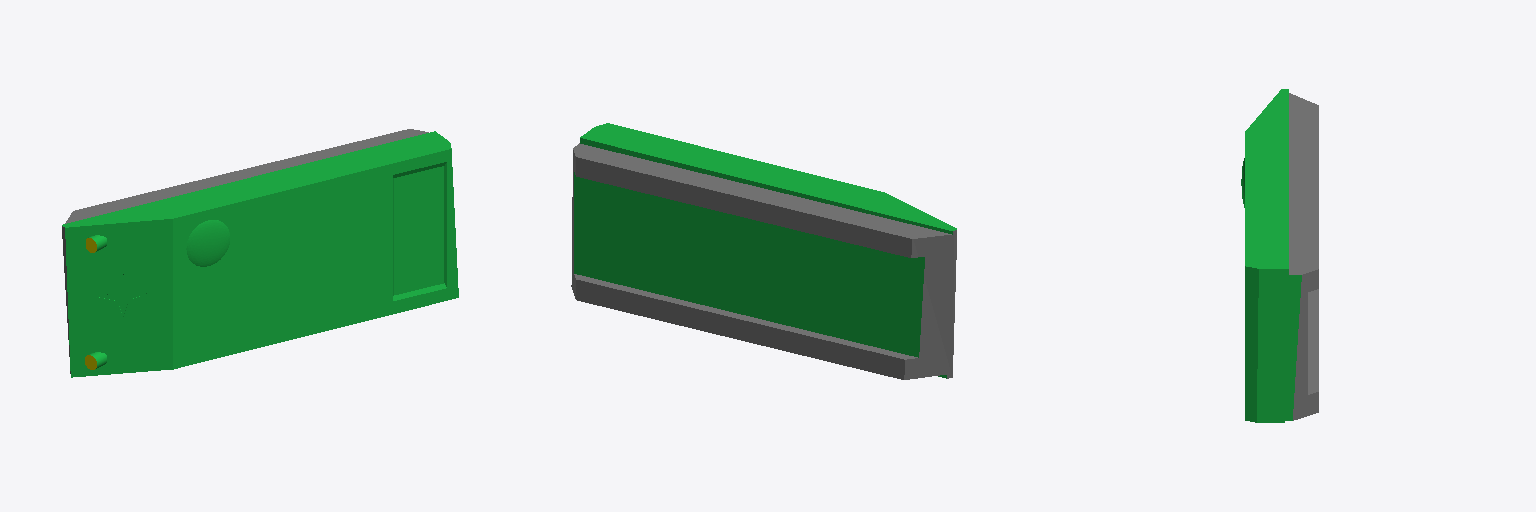
Rendered from HeavyTank.obj.
3 renders of one model, left to right at view 1: azimuth 30°, elevation 25°; view 2: azimuth 150°, elevation 25°; view 3: azimuth 270°, elevation 25°, orthographic.
Parts seen in each view (by area): view 1: Object.4, Object.3; view 2: Object.4; view 3: Object.4.
Part boxes in pixels (left/top/right/bottom): Object.4: left=62, top=129, right=458, bottom=377; Object.3: left=186, top=220, right=229, bottom=266; Object.4: left=571, top=123, right=956, bottom=379; Object.4: left=1245, top=89, right=1318, bottom=422.
Bounding box in the file's own units: 140 × 53.95 × 24.58.